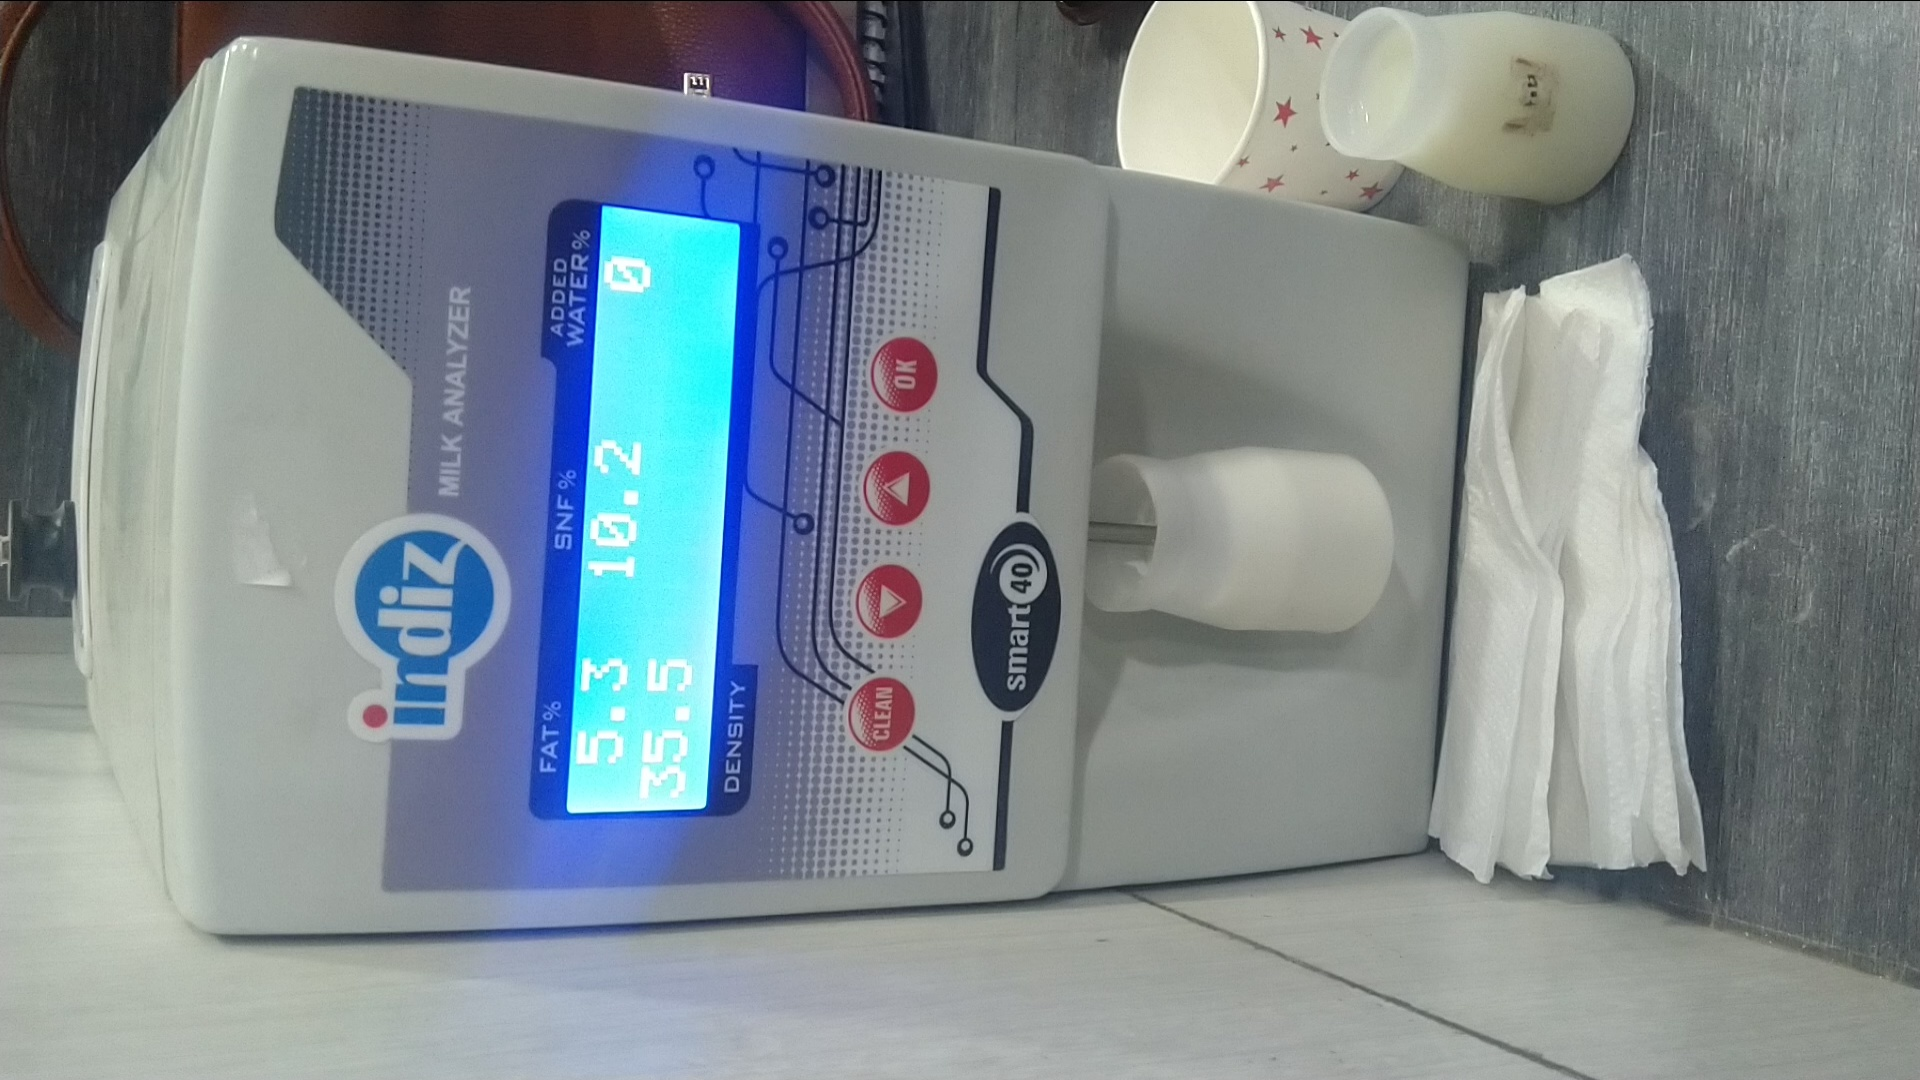lcd: (551, 199, 756, 828)
